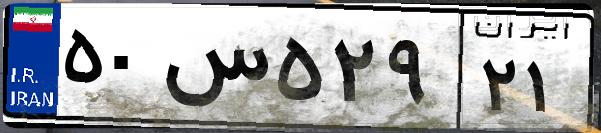0: (110, 28, 158, 98)
1: (525, 38, 570, 115)
2: (330, 28, 385, 110), (475, 38, 525, 113)
5: (270, 28, 330, 110), (57, 26, 110, 100)
9: (385, 28, 445, 110)
س: (158, 20, 270, 120)
